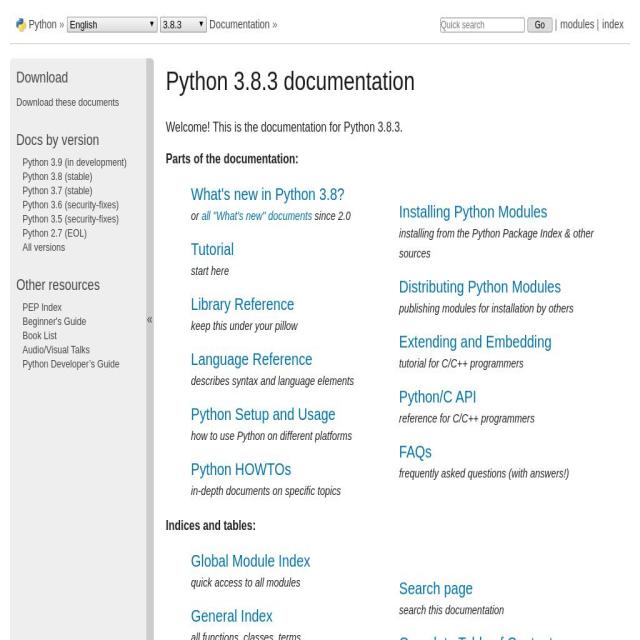field: (66, 17, 158, 33), (440, 17, 525, 34), (159, 17, 207, 33), (527, 17, 552, 34)
heading: (166, 65, 630, 97), (17, 276, 142, 292), (17, 69, 142, 84), (17, 132, 142, 146)
image: (16, 18, 26, 32)
link: (399, 276, 561, 296), (191, 184, 345, 204), (399, 332, 552, 352), (398, 202, 548, 222), (190, 404, 336, 424), (190, 349, 312, 369), (190, 551, 310, 571), (190, 294, 294, 314), (191, 459, 291, 479), (191, 606, 273, 626), (399, 386, 477, 406), (202, 209, 312, 223), (399, 578, 473, 598), (22, 155, 127, 168), (22, 197, 118, 211), (16, 95, 119, 108), (22, 357, 120, 370), (22, 212, 118, 225), (399, 633, 559, 640), (22, 169, 92, 183), (22, 183, 92, 197), (22, 342, 90, 356), (208, 18, 272, 32), (22, 314, 86, 328), (190, 239, 234, 259), (22, 226, 87, 239), (399, 442, 432, 462), (23, 240, 65, 253), (22, 300, 62, 313), (560, 18, 595, 32), (22, 328, 57, 342), (29, 18, 57, 32), (602, 18, 624, 32)
text: (166, 119, 630, 138), (398, 222, 594, 261), (398, 297, 574, 316), (399, 462, 569, 481), (190, 370, 354, 388), (190, 425, 352, 443), (191, 480, 341, 498), (399, 407, 535, 426), (398, 352, 524, 371), (399, 599, 504, 618), (190, 572, 300, 590), (190, 315, 298, 333), (166, 152, 300, 166), (190, 626, 301, 640), (166, 518, 256, 534), (190, 260, 230, 278), (312, 209, 351, 223), (190, 209, 202, 223), (56, 18, 64, 32), (594, 18, 599, 32), (272, 18, 277, 32), (147, 312, 152, 326), (554, 18, 557, 32)
